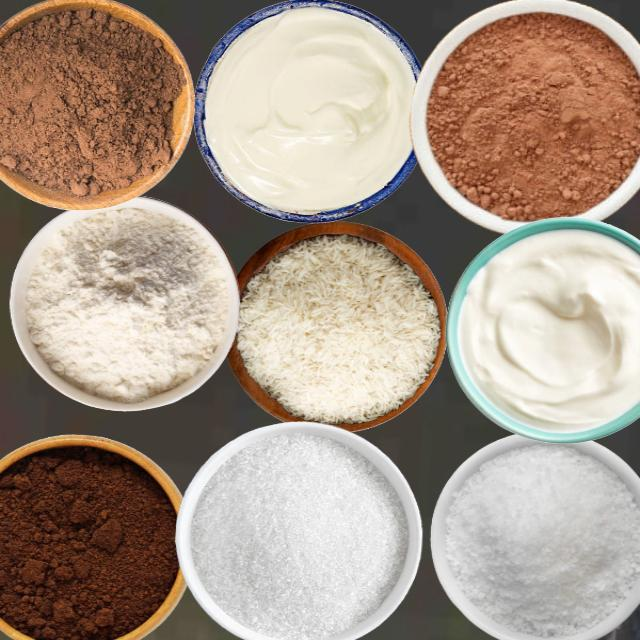Cocoa: (424, 10, 639, 221), (0, 0, 189, 207)
Coffee: (0, 438, 181, 639)
Flour: (24, 206, 228, 402)
Sugar: (189, 431, 407, 639), (444, 442, 639, 638)
